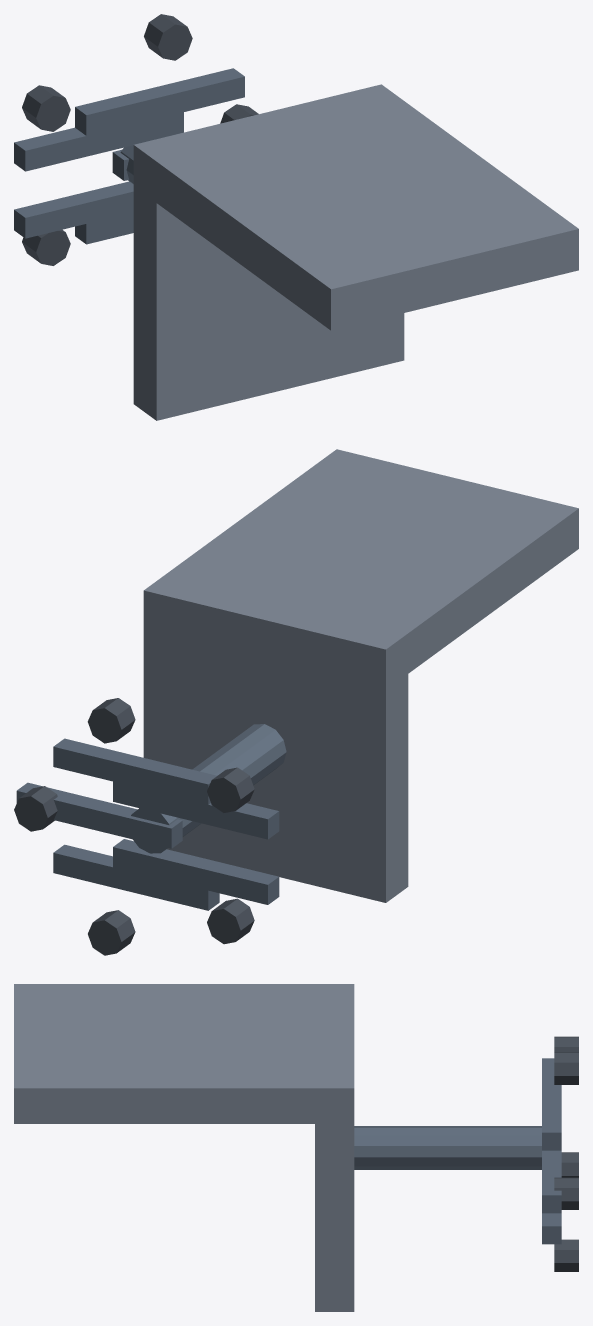
The model's file is office_chair.glb.
The picture shows the model from 3 angles, top to bottom: view 1: azimuth 30°, elevation 25°; view 2: azimuth 150°, elevation 25°; view 3: azimuth 270°, elevation 25°; orthographic projection. The views are drawn at different scales.
Parts seen in each view (by area): view 1: back_1, seat_0, spoke_5, spoke_7, spoke_9, caster_8, caster_6, caster_10, spoke_11; view 2: seat_0, back_1, spoke_9, spoke_5, spoke_11, post_2, spoke_3, spoke_7, caster_8, caster_6, caster_10, caster_12 (+1 smaller); view 3: back_1, seat_0, post_2, spoke_5, spoke_3, caster_6, caster_12, caster_4, spoke_11, caster_10, caster_8.
Part boxes in pixels (<box>): back_1: <box>137,86,578,330</box>; seat_0: <box>133,84,404,420</box>; spoke_5: <box>75,68,244,135</box>; spoke_7: <box>14,112,183,171</box>; spoke_9: <box>14,181,133,238</box>; caster_8: <box>22,85,70,131</box>; caster_6: <box>144,14,192,60</box>; caster_10: <box>22,229,70,265</box>; spoke_11: <box>75,212,133,244</box>; seat_0: <box>143,574,408,902</box>; back_1: <box>147,449,578,687</box>; spoke_9: <box>113,839,279,904</box>; spoke_5: <box>53,738,216,804</box>; spoke_11: <box>53,844,219,910</box>; post_2: <box>131,724,286,853</box>; spoke_3: <box>16,782,182,848</box>; spoke_7: <box>113,781,279,839</box>; caster_8: <box>207,767,254,812</box>; caster_6: <box>87,698,135,743</box>; caster_10: <box>207,898,254,944</box>; caster_12: <box>88,910,135,955</box>; back_1: <box>14,984,349,1123</box>; seat_0: <box>315,984,354,1311</box>; post_2: <box>354,1126,541,1169</box>; spoke_5: <box>542,1066,561,1150</box>; spoke_3: <box>542,1150,561,1213</box>; caster_6: <box>554,1052,578,1084</box>; caster_12: <box>554,1239,578,1271</box>; caster_4: <box>554,1177,578,1209</box>; spoke_11: <box>542,1213,561,1244</box>; caster_10: <box>561,1152,578,1177</box>; caster_8: <box>554,1036,578,1052</box>.
Size of the model in its own units: 0.52 by 0.5 by 1.14.
